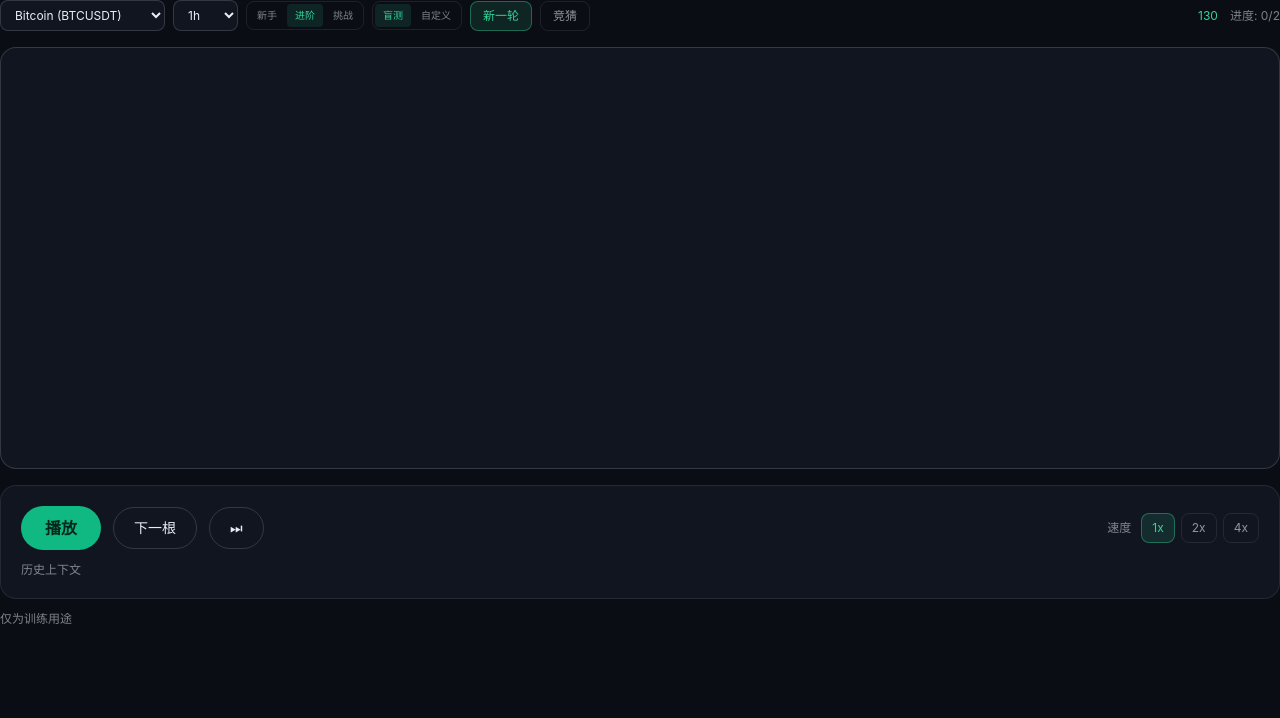
ReplayTrainer 竞猜模式与战绩 › 换标的会丢掉上一个交易对的战绩，记录里的分母只算这一轮
Check: the text "130 进度: 0/2" is shown, box [1198, 8, 1279, 24]
Click the button "竞猜" at (565,16), box [540, 0, 590, 30]
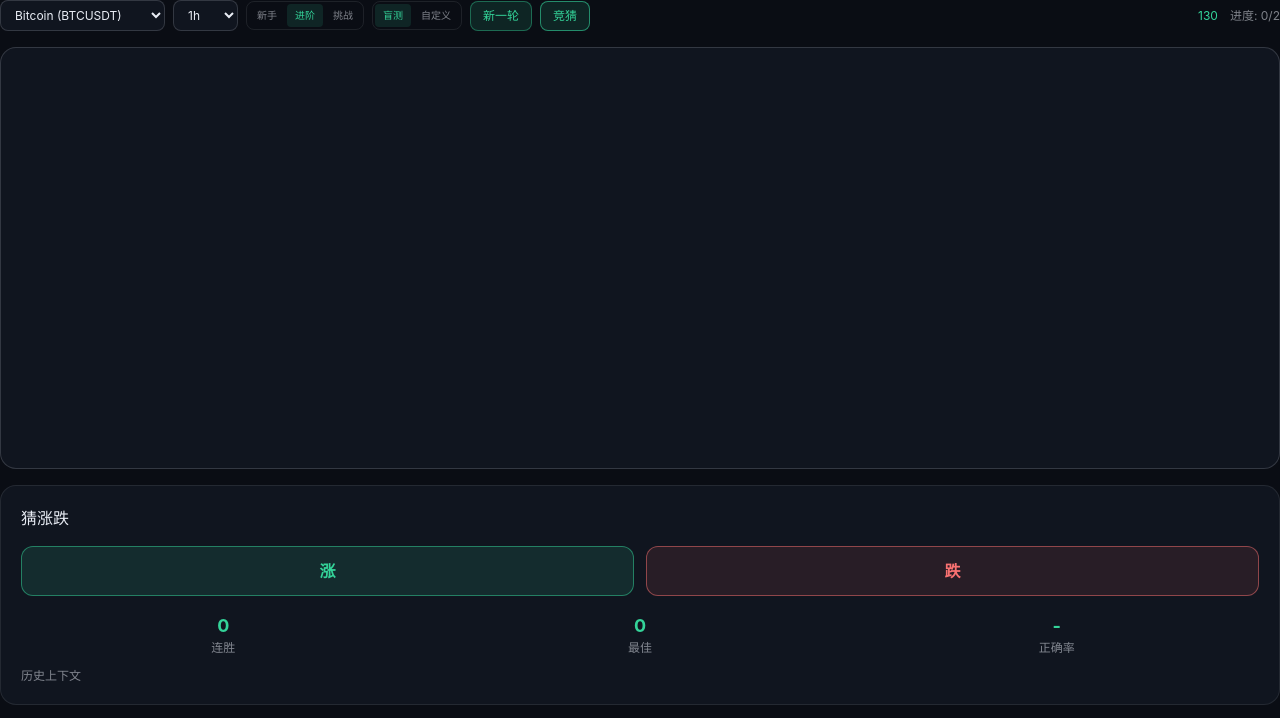
Click the button "涨" at (328,571), box [21, 546, 634, 596]
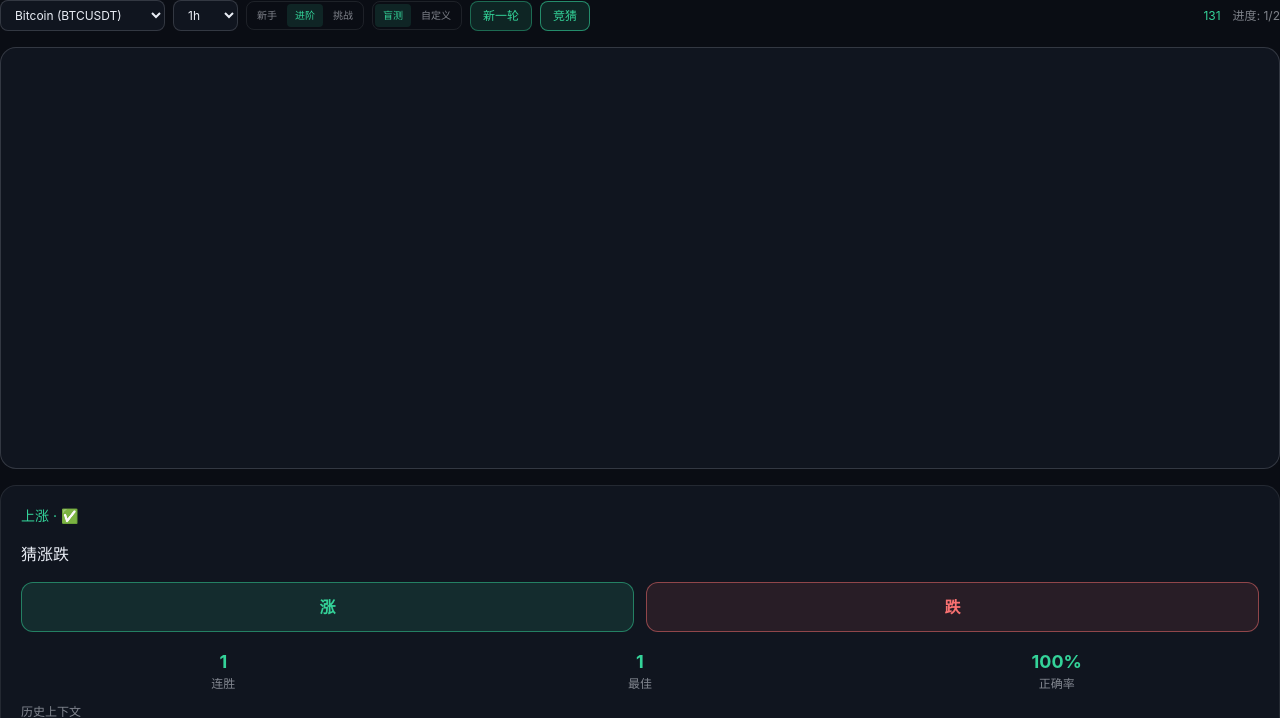
Check: the text "131 进度: 1/2" is shown, box [1203, 8, 1279, 24]
Select "Ethereum (ETHUSDT)" in the dropdown named "交易对" at (82,16), box [0, 0, 165, 31]
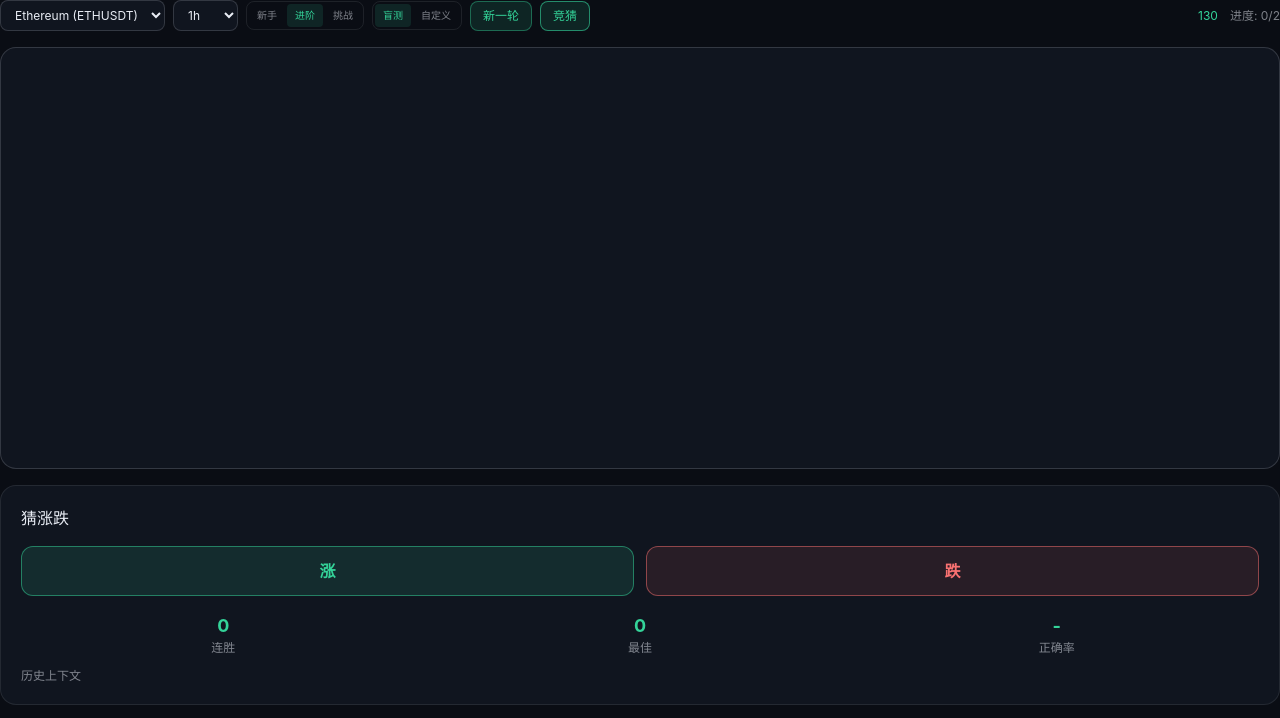
Check: the text "130 进度: 0/2" is shown, box [1198, 8, 1279, 24]
Click the button "涨" at (328,571), box [21, 546, 634, 596]
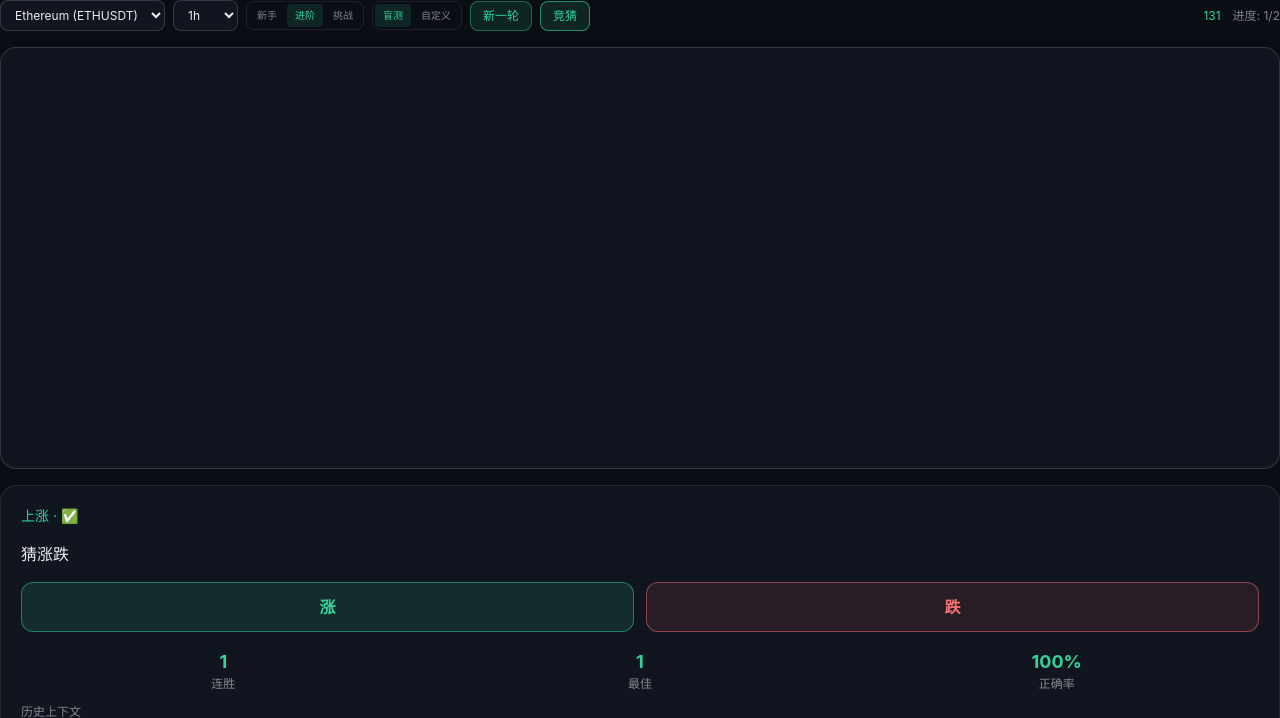
Check: the text "131 进度: 1/2" is shown, box [1203, 8, 1279, 24]
Click the button "涨" at (328,607), box [21, 582, 634, 632]
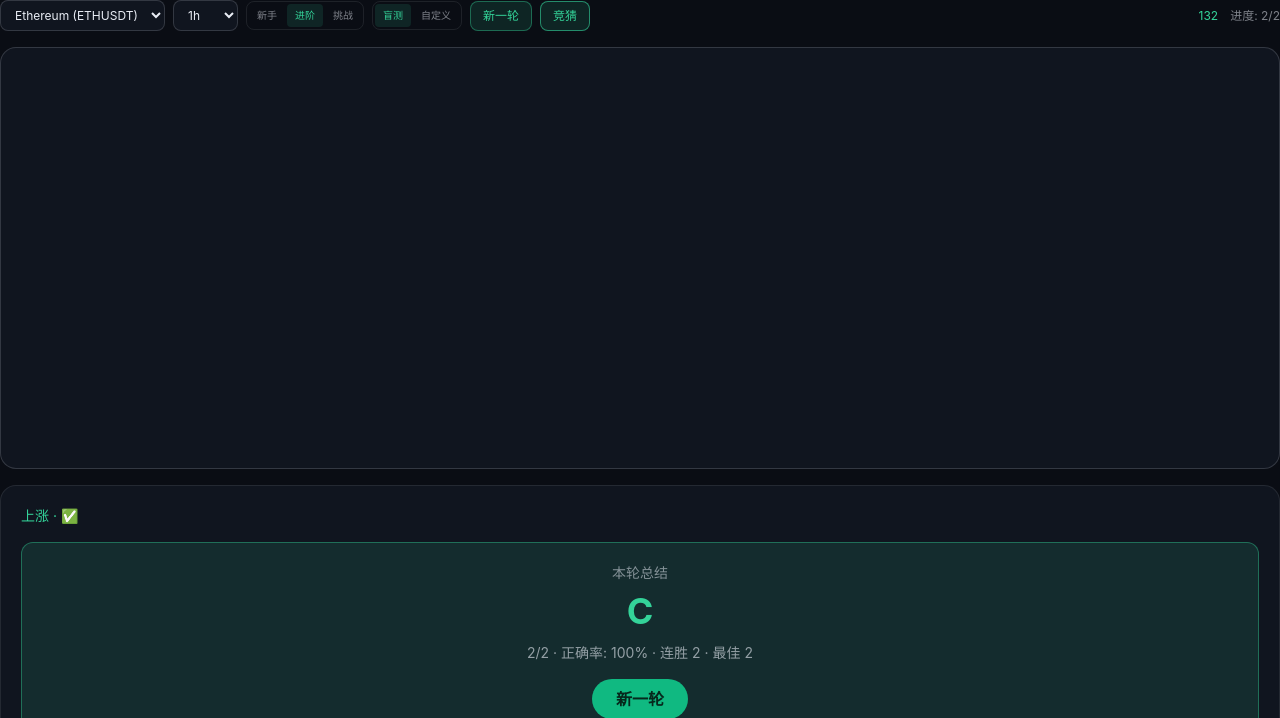
Check: the text "132 进度: 2/2" is shown, box [1198, 8, 1279, 24]
